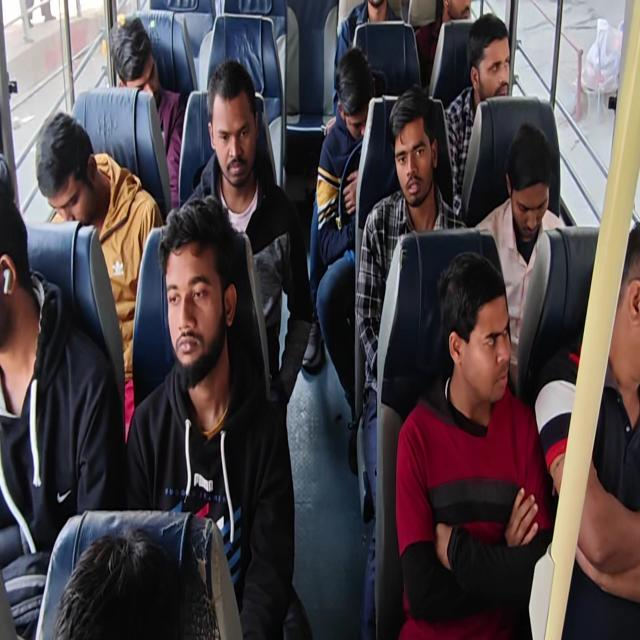person: (58, 528, 195, 640), (438, 244, 526, 417), (159, 209, 236, 395), (602, 190, 640, 433), (207, 61, 264, 200), (506, 110, 560, 256), (1, 137, 38, 349), (33, 103, 98, 223), (463, 9, 523, 128), (391, 85, 440, 225), (331, 42, 380, 143), (110, 12, 158, 95), (441, 0, 482, 25), (354, 0, 397, 23)
